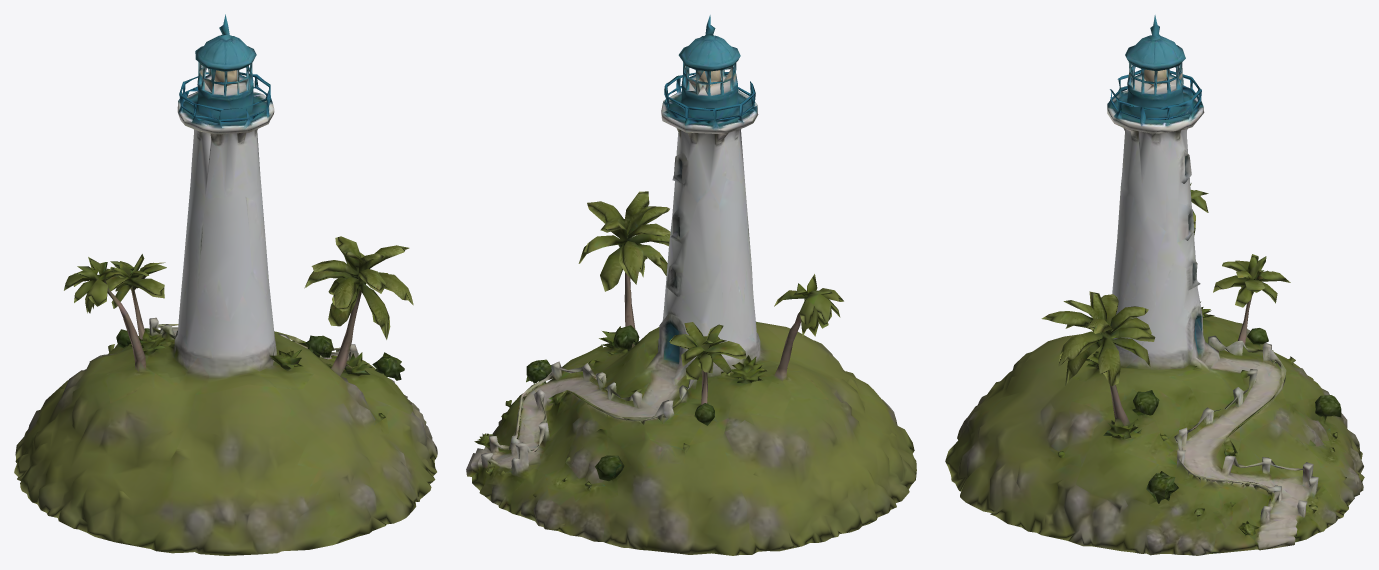
File: lm_lighthouse.glb
3 renders of one model, left to right at view 1: azimuth 30°, elevation 25°; view 2: azimuth 150°, elevation 25°; view 3: azimuth 270°, elevation 25°, orthographic.
Parts seen in each view (by area): view 1: tripo_node_84b2ca2c-02a6-4ffd-be76-d20d9f17db0f; view 2: tripo_node_84b2ca2c-02a6-4ffd-be76-d20d9f17db0f; view 3: tripo_node_84b2ca2c-02a6-4ffd-be76-d20d9f17db0f.
Part boxes in pixels (left/top/right/bottom): tripo_node_84b2ca2c-02a6-4ffd-be76-d20d9f17db0f: left=14, top=14, right=437, bottom=555; tripo_node_84b2ca2c-02a6-4ffd-be76-d20d9f17db0f: left=466, top=15, right=916, bottom=555; tripo_node_84b2ca2c-02a6-4ffd-be76-d20d9f17db0f: left=945, top=15, right=1364, bottom=555.
Bounding box in the file's own units: 0.8713 × 1 × 0.8492.
Materials: 1 (1 with a texture image).
